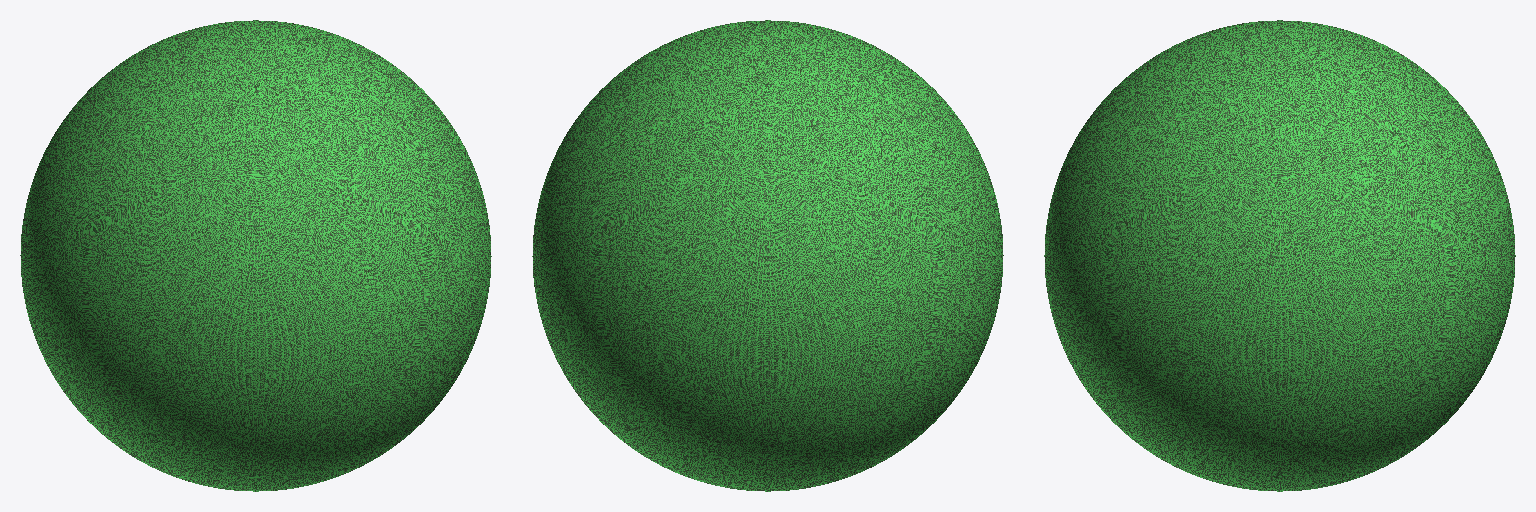
The picture shows the model from 3 angles: view 1: azimuth 30°, elevation 25°; view 2: azimuth 150°, elevation 25°; view 3: azimuth 270°, elevation 25°; orthographic projection.
Parts seen in each view (by area): view 1: Sphere001; view 2: Sphere001; view 3: Sphere001.
Part boxes in pixels (x1,y1,x2,y2): Sphere001: (20, 20, 491, 491); Sphere001: (532, 20, 1003, 491); Sphere001: (1044, 20, 1515, 491).
Bounding box in the file's own units: 1000 × 1000 × 1000.
Materials: 1 (1 with a texture image).